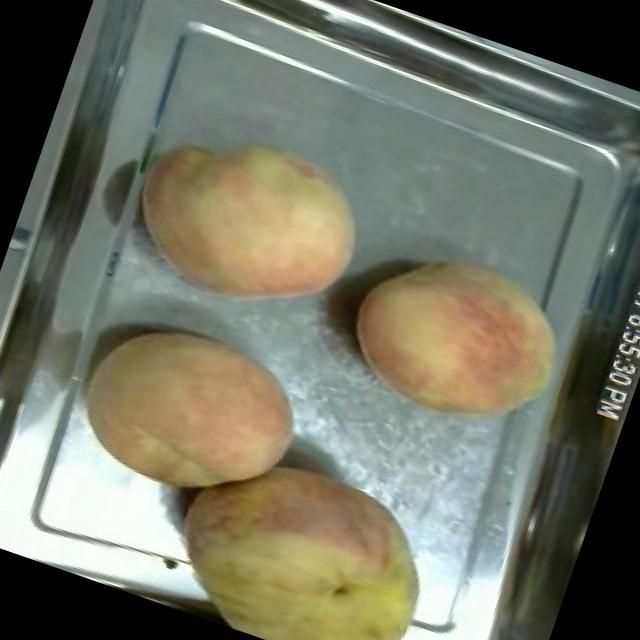Fruit: (143, 420, 467, 640), (110, 100, 385, 344), (54, 292, 325, 532), (325, 220, 587, 454)
